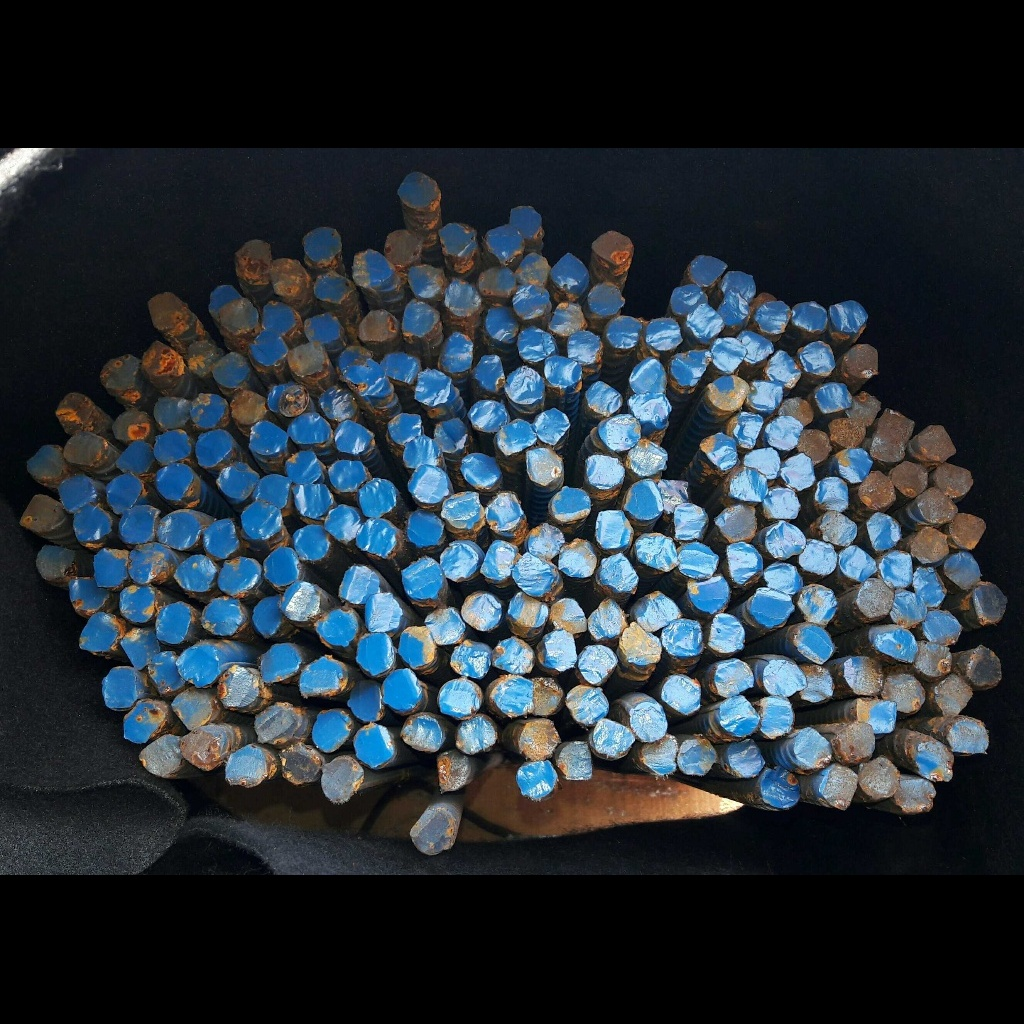dipstick: (512, 552, 559, 596), (633, 590, 681, 633), (322, 756, 364, 804), (619, 621, 662, 665), (299, 656, 345, 697), (254, 703, 297, 746), (176, 645, 220, 687), (401, 557, 442, 601), (140, 735, 181, 778), (217, 665, 258, 708), (565, 684, 608, 725), (202, 597, 246, 637), (354, 724, 394, 768), (172, 689, 213, 731), (356, 517, 397, 559), (410, 812, 451, 854), (147, 649, 187, 692), (750, 588, 793, 628), (142, 341, 183, 382), (518, 719, 559, 760), (718, 695, 759, 736), (123, 703, 165, 743), (225, 746, 267, 786), (382, 668, 422, 710), (492, 675, 534, 715), (587, 598, 627, 640), (218, 557, 261, 596), (253, 594, 291, 638), (871, 626, 917, 662), (280, 743, 320, 784), (280, 581, 320, 622), (353, 249, 393, 290), (339, 565, 380, 605), (461, 591, 502, 631), (577, 645, 618, 685), (859, 757, 899, 798), (312, 710, 351, 752), (798, 584, 837, 626), (235, 240, 272, 284), (820, 766, 857, 810), (156, 512, 201, 548), (79, 612, 119, 652), (624, 479, 664, 519), (121, 628, 160, 669), (760, 768, 801, 807), (182, 729, 220, 771), (401, 713, 443, 751), (438, 679, 480, 717), (551, 254, 589, 296), (687, 573, 729, 611), (662, 618, 705, 655), (762, 660, 806, 696), (726, 542, 762, 586), (442, 491, 482, 530), (599, 552, 638, 592), (794, 728, 833, 768), (835, 722, 875, 761), (259, 644, 300, 682), (302, 226, 343, 264), (456, 717, 497, 755), (451, 640, 492, 678), (517, 760, 558, 798), (398, 626, 435, 668), (441, 540, 478, 582), (593, 719, 635, 756), (883, 675, 925, 712), (598, 414, 641, 450), (759, 695, 795, 738), (63, 432, 108, 466), (127, 545, 167, 583), (662, 674, 700, 714), (640, 734, 678, 774), (794, 625, 834, 663), (56, 392, 93, 433), (195, 430, 236, 467), (240, 502, 281, 539), (218, 462, 259, 499), (626, 438, 667, 475), (713, 660, 754, 697), (174, 555, 216, 591), (492, 637, 534, 673), (936, 675, 972, 717), (356, 632, 394, 671), (558, 539, 597, 577), (629, 702, 667, 741), (857, 578, 895, 617), (100, 354, 140, 391), (425, 607, 465, 644), (397, 172, 437, 209), (637, 534, 677, 571), (916, 742, 953, 782), (155, 603, 191, 644), (349, 680, 385, 721), (317, 609, 358, 645), (496, 418, 537, 454), (479, 540, 515, 581), (671, 350, 712, 386), (724, 740, 765, 776), (715, 505, 756, 541), (102, 666, 136, 709), (409, 465, 447, 503), (595, 510, 633, 548), (287, 340, 326, 377), (540, 631, 577, 670), (204, 518, 240, 558), (360, 478, 396, 518), (486, 492, 522, 532), (678, 543, 718, 579), (766, 523, 806, 559), (844, 657, 884, 693), (896, 777, 936, 813), (189, 394, 230, 429), (507, 592, 548, 627), (628, 393, 670, 427), (59, 476, 97, 513), (119, 505, 156, 543), (402, 300, 439, 338), (526, 447, 563, 485), (700, 432, 737, 470), (708, 614, 746, 651), (858, 471, 896, 508), (911, 526, 949, 563), (107, 474, 143, 513), (155, 464, 194, 500), (36, 544, 75, 580), (505, 366, 544, 402), (726, 410, 762, 449), (20, 494, 60, 529), (438, 749, 470, 792), (591, 231, 634, 263), (147, 292, 184, 329), (527, 523, 564, 560), (711, 336, 748, 373), (678, 739, 715, 776), (73, 505, 111, 541), (120, 584, 156, 622), (408, 509, 444, 547), (518, 326, 556, 362), (534, 408, 570, 446), (934, 460, 972, 496), (461, 453, 500, 488), (485, 224, 524, 259), (512, 284, 551, 319), (967, 646, 1002, 685), (153, 430, 193, 464), (314, 270, 354, 304), (707, 376, 747, 410), (913, 566, 945, 608), (293, 524, 329, 561), (799, 538, 836, 574), (891, 461, 928, 497), (839, 545, 876, 581), (93, 548, 128, 586), (264, 547, 299, 585), (294, 482, 332, 517), (365, 594, 400, 632), (586, 453, 624, 488), (629, 358, 667, 393), (945, 552, 980, 590), (920, 487, 958, 522), (403, 435, 442, 469), (868, 511, 901, 551), (948, 719, 988, 752), (468, 399, 509, 431), (974, 583, 1005, 625), (445, 280, 481, 316), (919, 425, 956, 460), (212, 352, 250, 386), (116, 440, 154, 474), (271, 258, 305, 296), (439, 333, 473, 371), (764, 416, 802, 450), (113, 409, 152, 442), (218, 300, 257, 333), (318, 386, 357, 419), (729, 468, 768, 501), (922, 610, 961, 643), (69, 578, 109, 610), (551, 487, 591, 519), (289, 412, 330, 443), (187, 340, 222, 376), (253, 474, 289, 509), (551, 598, 587, 633), (950, 513, 986, 548), (284, 451, 321, 485), (385, 230, 422, 264), (26, 445, 64, 478), (249, 421, 287, 454), (559, 742, 592, 780), (585, 381, 623, 414), (689, 254, 727, 287), (359, 310, 398, 342), (857, 699, 896, 731), (870, 427, 905, 462), (891, 591, 926, 626), (305, 310, 341, 344), (326, 506, 360, 542), (414, 370, 450, 404), (409, 265, 445, 299), (567, 331, 603, 365), (767, 351, 801, 387), (335, 420, 372, 453), (438, 223, 475, 256), (549, 303, 586, 336), (544, 355, 582, 387), (830, 300, 868, 332), (846, 392, 881, 426), (821, 511, 856, 545), (486, 306, 519, 342), (687, 305, 723, 338), (781, 453, 814, 489), (674, 503, 707, 539), (800, 341, 836, 374), (797, 427, 830, 463), (879, 552, 912, 588), (153, 395, 190, 427), (328, 460, 365, 492), (588, 282, 625, 314), (645, 318, 682, 350), (801, 664, 833, 701), (764, 562, 802, 593), (828, 418, 866, 449), (232, 391, 266, 425), (516, 253, 550, 287), (838, 449, 872, 483), (262, 301, 295, 336), (815, 477, 848, 512), (917, 643, 952, 676), (382, 352, 419, 383), (475, 355, 506, 392), (532, 677, 563, 714), (479, 267, 517, 297), (815, 383, 854, 412), (434, 419, 467, 453), (252, 333, 287, 365), (756, 301, 791, 333), (388, 413, 421, 446), (739, 331, 773, 363), (844, 344, 878, 376), (672, 284, 707, 315), (606, 317, 642, 347), (722, 270, 755, 302), (657, 479, 689, 512), (749, 379, 783, 410), (764, 488, 798, 519), (793, 301, 827, 332), (779, 397, 813, 427), (745, 448, 780, 477), (510, 206, 542, 237), (718, 291, 749, 323), (880, 409, 914, 438), (345, 358, 381, 385), (209, 285, 240, 315), (340, 345, 373, 373)
